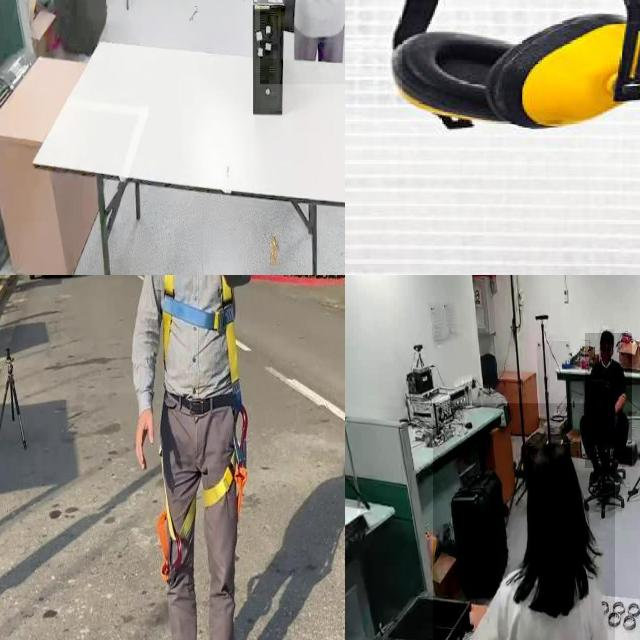Ear-protection: (392, 0, 640, 149)
Harness: (161, 275, 239, 386), (203, 404, 249, 514), (156, 498, 196, 584)
face_nomask: (600, 343, 612, 364)
head_nohelmet: (526, 440, 578, 493), (600, 329, 614, 343)
person: (432, 403, 615, 640), (260, 0, 345, 85), (585, 333, 633, 468)
